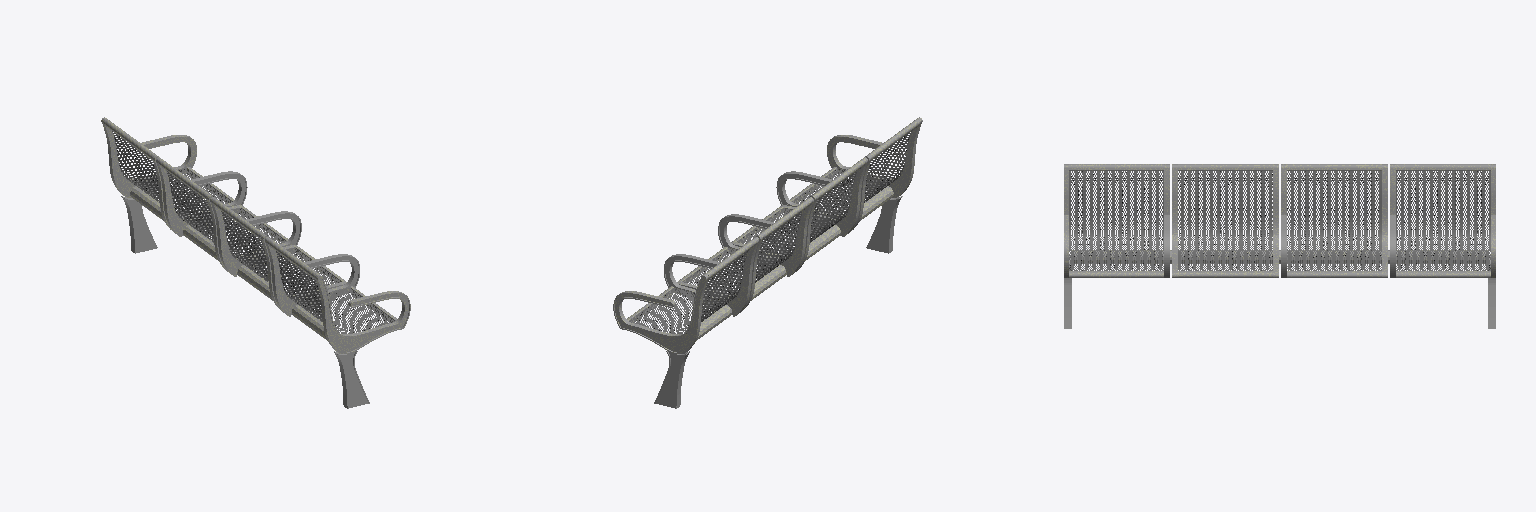
3 renders of one model, left to right at view 1: azimuth 30°, elevation 25°; view 2: azimuth 150°, elevation 25°; view 3: azimuth 270°, elevation 25°, orthographic.
Parts seen in each view (by area): view 1: mesh7.002_mesh7-geometry, mesh10.002_mesh10-geometry, mesh11.001_mesh11-geometry, mesh14.002_mesh14-geometry, mesh2.002_mesh2-geometry, mesh14.003_mesh14-geometry, mesh5.002_mesh5-geometry, mesh13.001_mesh13-geometry, mesh12.001_mesh12-geometry, mesh6.002_mesh6-geometry, mesh1.006_mesh1-geometry, mesh1.008_mesh1-geometry (+3 smaller); view 2: mesh2.002_mesh2-geometry, mesh5.002_mesh5-geometry, mesh11.001_mesh11-geometry, mesh14.003_mesh14-geometry, mesh14.002_mesh14-geometry, mesh7.002_mesh7-geometry, mesh10.002_mesh10-geometry, mesh12.001_mesh12-geometry, mesh13.001_mesh13-geometry, mesh1.004_mesh1-geometry, mesh1.005_mesh1-geometry, mesh1.007_mesh1-geometry (+3 smaller); view 3: mesh14.003_mesh14-geometry, mesh14.002_mesh14-geometry, mesh7.002_mesh7-geometry, mesh2.002_mesh2-geometry, mesh11.001_mesh11-geometry, mesh1.008_mesh1-geometry, mesh1.006_mesh1-geometry, mesh1.005_mesh1-geometry, mesh4.010_mesh4-geometry, mesh4.009_mesh4-geometry, mesh4.008_mesh4-geometry, mesh4.007_mesh4-geometry (+6 smaller).
Part boxes in pixels (left/top/right/bottom): mesh7.002_mesh7-geometry: left=276, top=251, right=394, bottom=333; mesh10.002_mesh10-geometry: left=315, top=274, right=410, bottom=353; mesh11.001_mesh11-geometry: left=130, top=186, right=327, bottom=340; mesh14.002_mesh14-geometry: left=221, top=211, right=339, bottom=293; mesh2.002_mesh2-geometry: left=112, top=131, right=231, bottom=214; mesh14.003_mesh14-geometry: left=167, top=171, right=286, bottom=254; mesh5.002_mesh5-geometry: left=101, top=117, right=196, bottom=197; mesh13.001_mesh13-geometry: left=334, top=351, right=369, bottom=408; mesh12.001_mesh12-geometry: left=121, top=196, right=157, bottom=253; mesh6.002_mesh6-geometry: left=265, top=237, right=352, bottom=316; mesh1.006_mesh1-geometry: left=210, top=197, right=297, bottom=276; mesh1.008_mesh1-geometry: left=156, top=157, right=243, bottom=236; mesh2.002_mesh2-geometry: left=629, top=251, right=747, bottom=333; mesh5.002_mesh5-geometry: left=613, top=274, right=708, bottom=353; mesh11.001_mesh11-geometry: left=696, top=186, right=893, bottom=340; mesh14.003_mesh14-geometry: left=683, top=212, right=801, bottom=293; mesh14.002_mesh14-geometry: left=737, top=172, right=856, bottom=253; mesh7.002_mesh7-geometry: left=792, top=131, right=911, bottom=213; mesh10.002_mesh10-geometry: left=827, top=117, right=922, bottom=197; mesh12.001_mesh12-geometry: left=654, top=351, right=689, bottom=408; mesh13.001_mesh13-geometry: left=866, top=196, right=902, bottom=253; mesh1.004_mesh1-geometry: left=671, top=237, right=758, bottom=316; mesh1.005_mesh1-geometry: left=780, top=157, right=867, bottom=236; mesh1.007_mesh1-geometry: left=728, top=197, right=813, bottom=276; mesh14.003_mesh14-geometry: left=1287, top=171, right=1381, bottom=270; mesh14.002_mesh14-geometry: left=1178, top=171, right=1272, bottom=270; mesh7.002_mesh7-geometry: left=1069, top=171, right=1163, bottom=270; mesh2.002_mesh2-geometry: left=1396, top=171, right=1490, bottom=270; mesh11.001_mesh11-geometry: left=1072, top=250, right=1487, bottom=263; mesh1.008_mesh1-geometry: left=1382, top=164, right=1387, bottom=277; mesh1.006_mesh1-geometry: left=1273, top=164, right=1278, bottom=277; mesh1.005_mesh1-geometry: left=1172, top=164, right=1177, bottom=277; mesh4.010_mesh4-geometry: left=1287, top=271, right=1381, bottom=277; mesh4.009_mesh4-geometry: left=1287, top=164, right=1381, bottom=170; mesh4.008_mesh4-geometry: left=1178, top=271, right=1272, bottom=277; mesh4.007_mesh4-geometry: left=1178, top=164, right=1272, bottom=170.
Size of the model in its own units: 0.2274 by 0.3272 by 0.9172.
Materials: 3 (1 with a texture image).